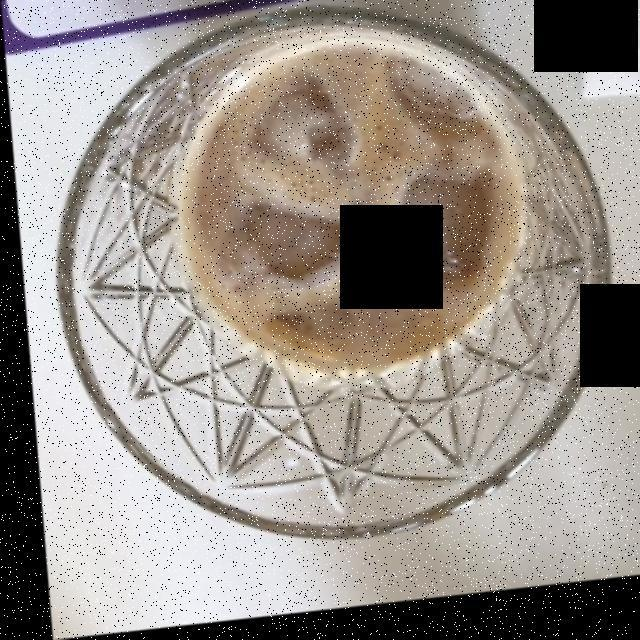coffee: (170, 57, 513, 382)
